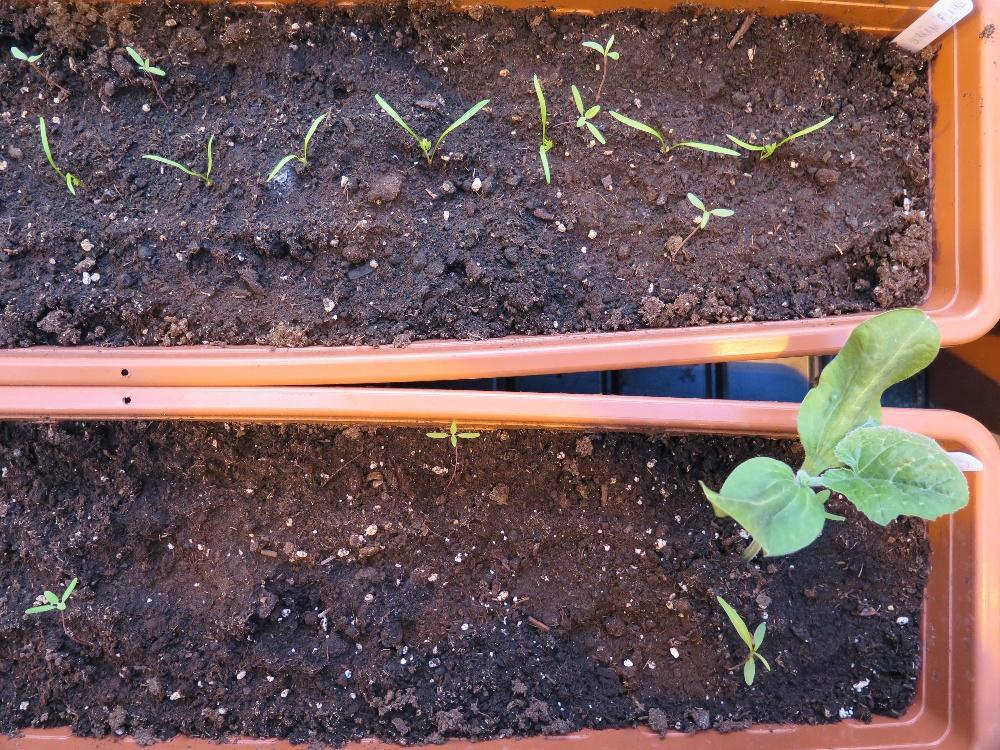crop: (372, 90, 493, 166), (265, 109, 327, 182), (139, 130, 214, 187), (37, 114, 81, 197), (531, 72, 553, 184)
weed: (714, 593, 772, 688), (21, 574, 77, 616), (569, 82, 606, 145), (685, 190, 734, 229), (422, 419, 481, 447), (124, 44, 165, 77), (580, 30, 619, 61), (8, 44, 43, 62)
